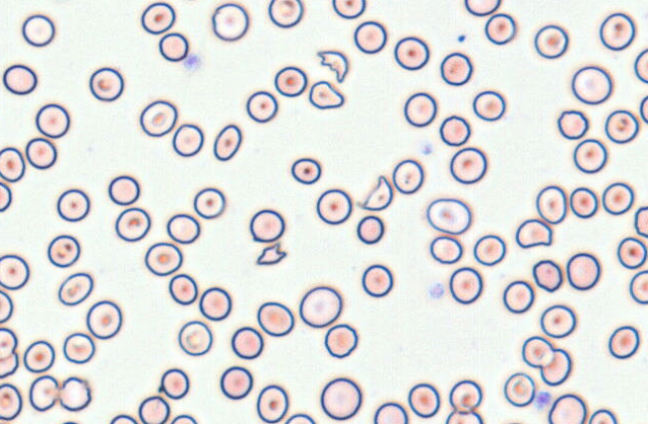PLT: (426, 281, 446, 300), (535, 390, 553, 408), (184, 53, 201, 71)
RBC: (298, 285, 342, 328), (320, 377, 362, 420), (425, 197, 471, 234), (571, 65, 612, 104), (139, 99, 178, 137), (211, 2, 249, 41), (449, 146, 487, 184), (599, 12, 636, 51), (86, 299, 122, 339), (315, 188, 352, 225), (114, 206, 151, 242), (256, 301, 294, 336), (144, 241, 182, 276), (566, 252, 601, 290), (88, 66, 124, 102), (449, 266, 483, 304), (177, 320, 212, 356), (393, 35, 429, 70), (35, 102, 70, 138), (539, 304, 576, 338), (256, 384, 288, 423), (535, 185, 567, 224), (604, 109, 639, 144), (57, 272, 93, 306), (249, 208, 285, 242), (403, 91, 437, 127), (539, 348, 571, 386), (324, 323, 358, 358), (219, 365, 253, 400), (573, 138, 607, 173), (534, 24, 568, 59), (407, 382, 440, 418), (140, 1, 176, 34), (547, 393, 586, 423), (56, 188, 90, 222), (353, 20, 387, 54), (21, 13, 55, 47), (439, 51, 473, 85), (58, 376, 91, 411), (448, 379, 483, 412), (198, 286, 231, 321), (392, 158, 424, 194), (212, 123, 242, 161), (601, 181, 634, 215), (607, 325, 640, 359), (2, 63, 37, 95), (503, 372, 535, 407), (521, 335, 554, 368), (230, 326, 263, 359), (47, 234, 80, 267), (245, 90, 278, 123), (23, 339, 55, 373), (166, 212, 200, 244), (502, 279, 534, 313), (361, 263, 393, 297), (172, 123, 204, 157), (0, 253, 29, 290), (62, 332, 95, 364), (473, 234, 506, 266), (274, 65, 307, 97), (484, 12, 516, 45), (25, 137, 57, 169), (193, 187, 225, 219), (616, 236, 647, 269), (107, 174, 140, 205), (472, 90, 505, 121), (267, 0, 303, 28), (439, 114, 470, 146), (532, 259, 562, 292), (168, 273, 198, 305), (159, 367, 189, 399), (556, 109, 588, 139), (429, 235, 462, 264), (158, 32, 189, 62), (569, 186, 598, 218), (0, 146, 25, 182), (138, 395, 169, 423), (290, 157, 321, 184), (0, 382, 22, 420), (356, 215, 384, 244), (373, 401, 408, 423), (331, 0, 365, 19), (629, 270, 647, 304), (464, 0, 500, 16), (0, 327, 17, 359), (445, 409, 483, 423), (0, 352, 19, 378), (634, 48, 647, 83), (634, 205, 648, 237), (0, 289, 13, 323), (588, 408, 617, 423), (0, 180, 12, 212), (284, 412, 315, 423), (639, 95, 648, 124), (109, 414, 138, 423), (170, 414, 197, 423), (499, 420, 529, 424), (58, 420, 81, 424), (179, 0, 205, 2)
Schistocyte: (361, 174, 393, 211), (515, 218, 552, 248), (29, 374, 58, 412), (316, 50, 349, 83), (309, 80, 345, 109), (255, 242, 289, 265)
